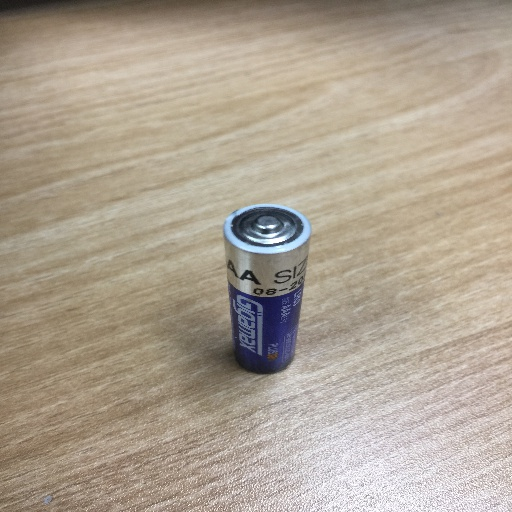Battery_0: (220, 185, 319, 382)
